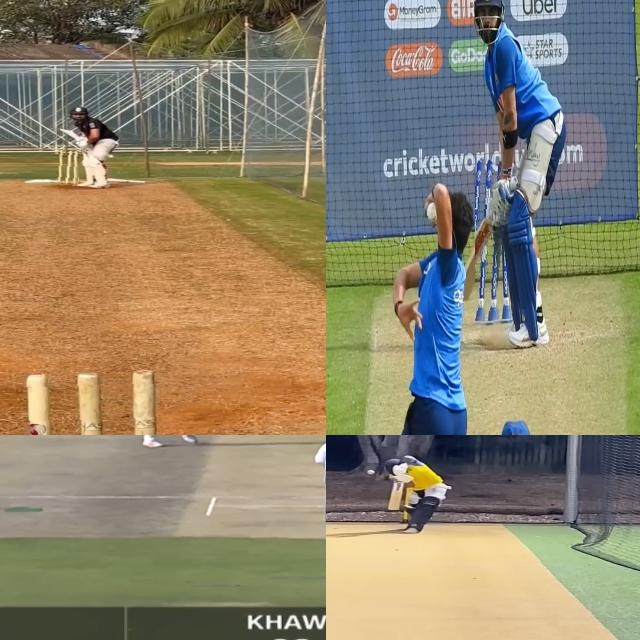Cricket ball: (426, 199, 436, 226), (366, 469, 375, 475)
Stumps: (24, 370, 161, 435), (475, 157, 509, 326), (56, 148, 81, 186)
